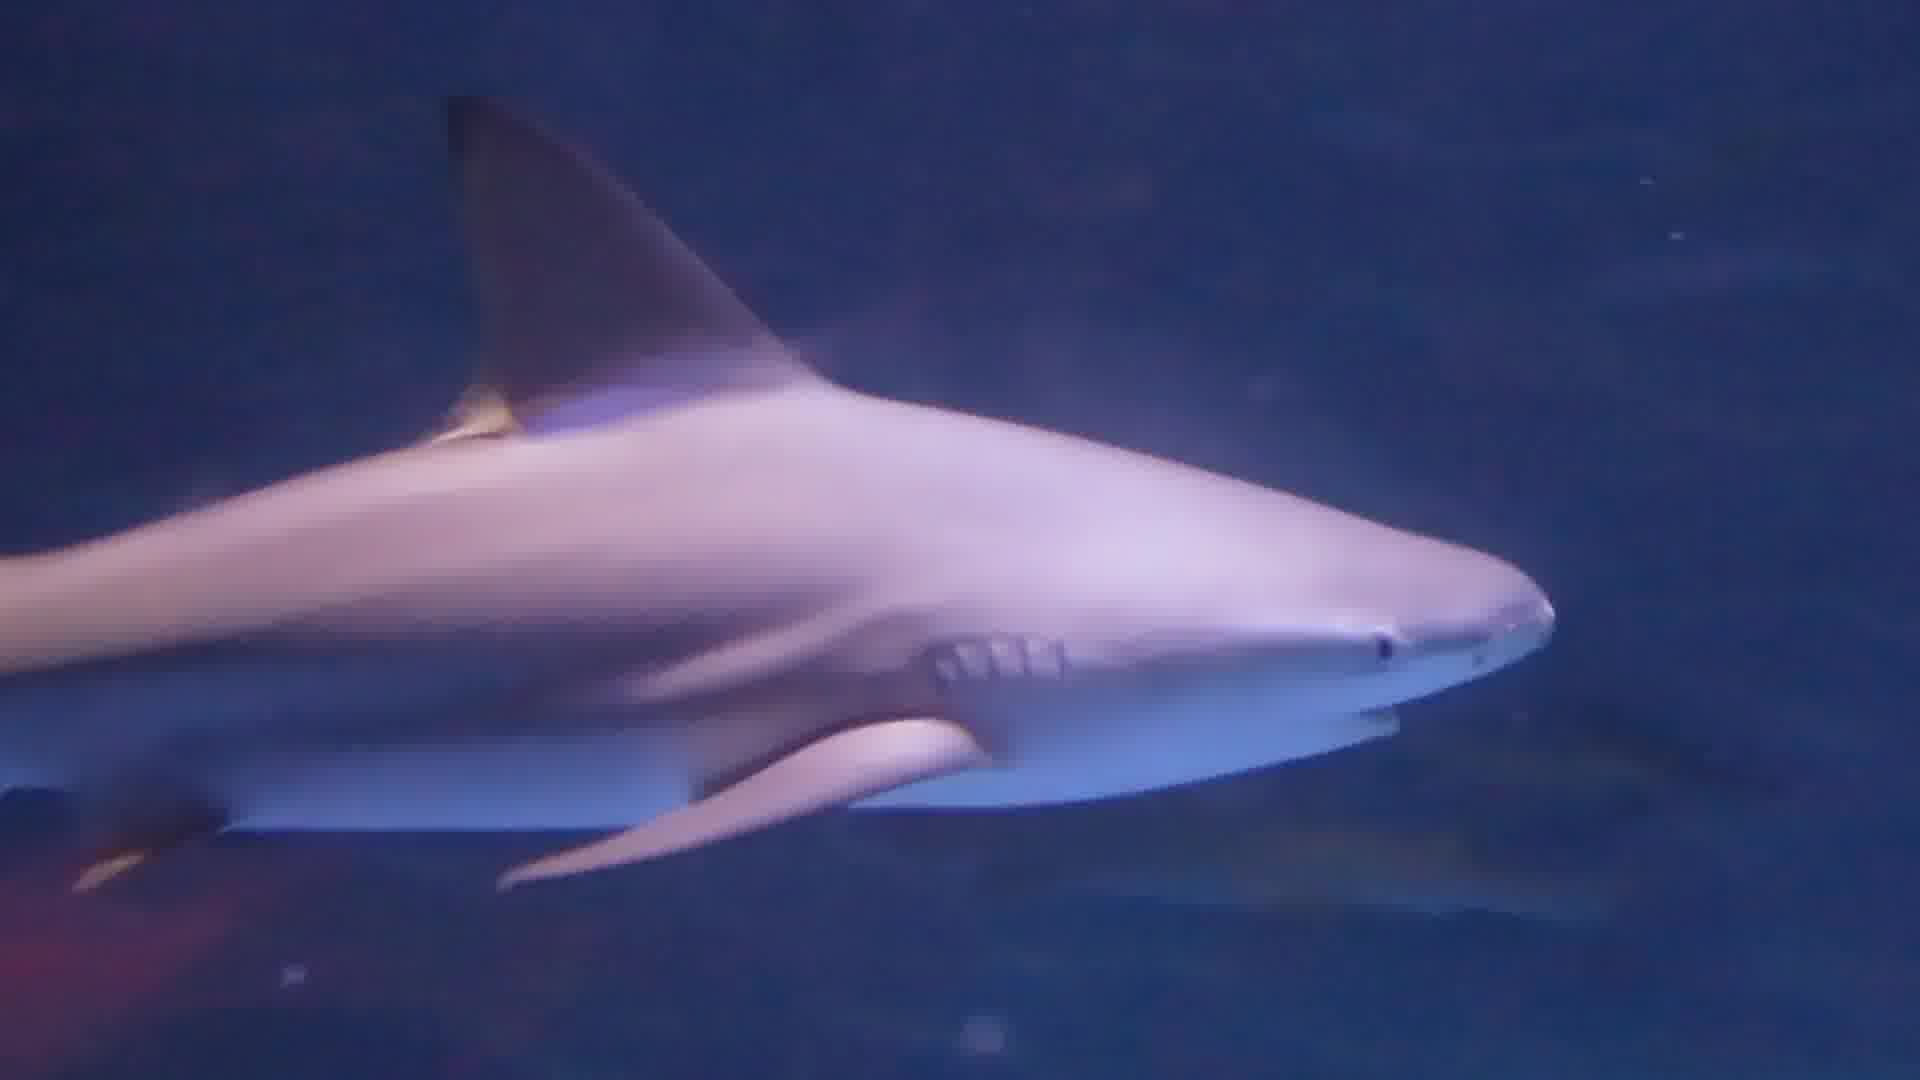Carcharhinus leucas: (3, 67, 1582, 922)
